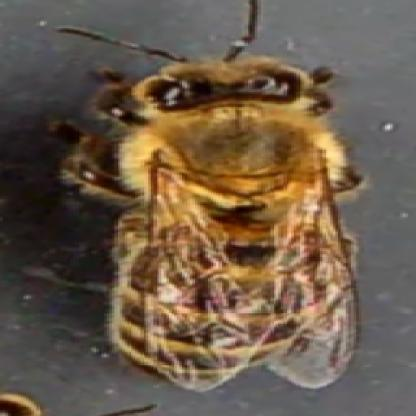bee: (98, 38, 358, 376)
